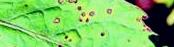Tomato leaf bacterial spot: (0, 0, 161, 47)
